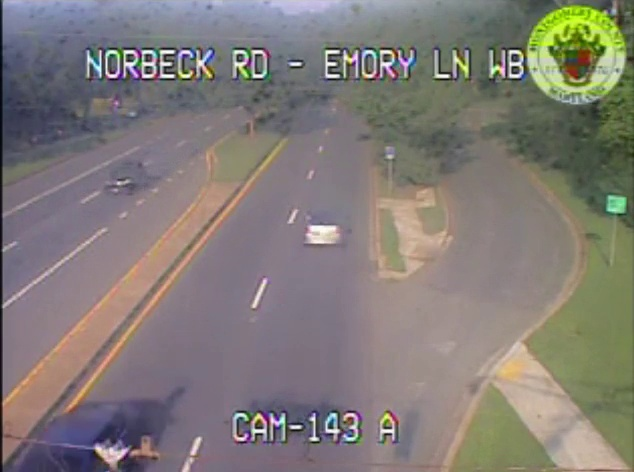car: (306, 219, 344, 244)
